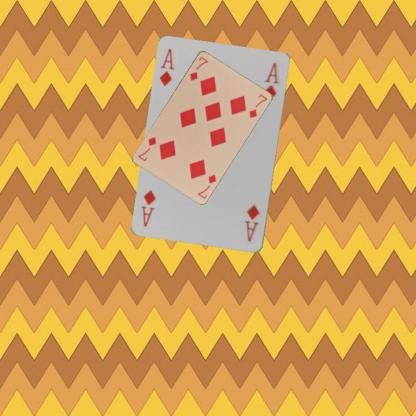7d: (187, 54, 210, 81), (195, 172, 217, 200)
Ad: (157, 46, 176, 88), (243, 202, 261, 243)
